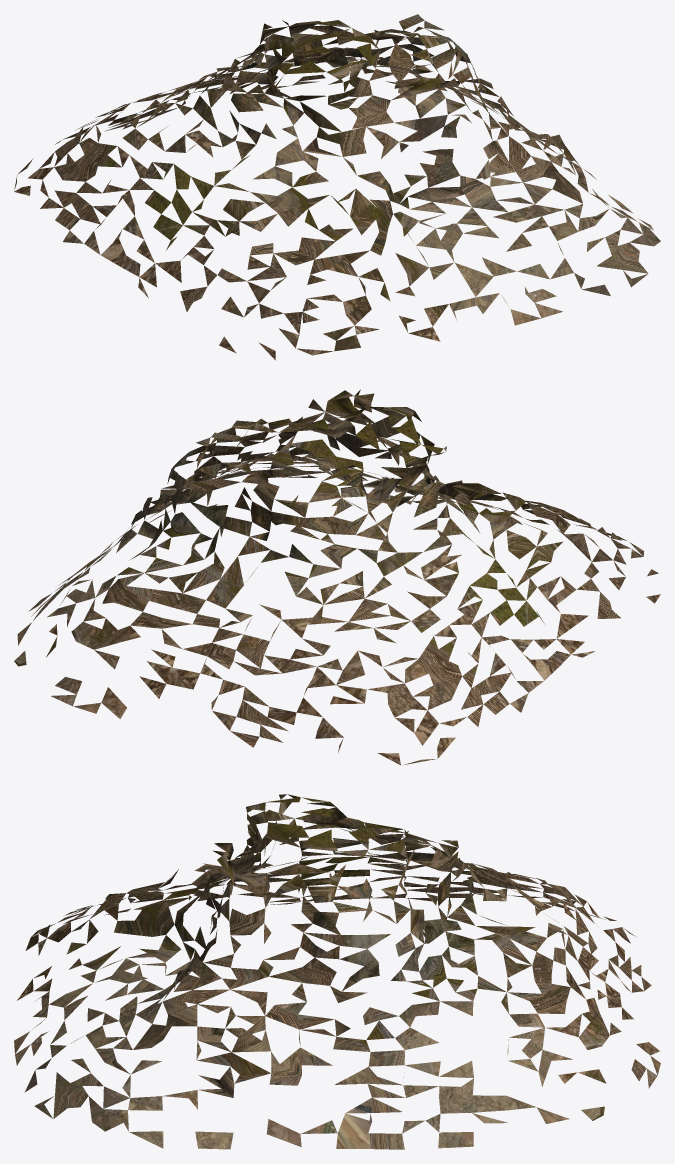
The model's file is tree_stump_01.glb.
3 renders of one model, top to bottom at view 1: azimuth 30°, elevation 25°; view 2: azimuth 150°, elevation 25°; view 3: azimuth 270°, elevation 25°, orthographic. The views are drawn at different scales.
Parts seen in each view (by area): view 1: tree_stump_01; view 2: tree_stump_01; view 3: tree_stump_01.
Part boxes in pixels (x1,y1,x2,y2): tree_stump_01: (14,14,660,360); tree_stump_01: (14,389,660,765); tree_stump_01: (14,794,660,1149).
Size of the model in its own units: 1.41 by 0.5502 by 1.57.
1 material, 1 textured.
